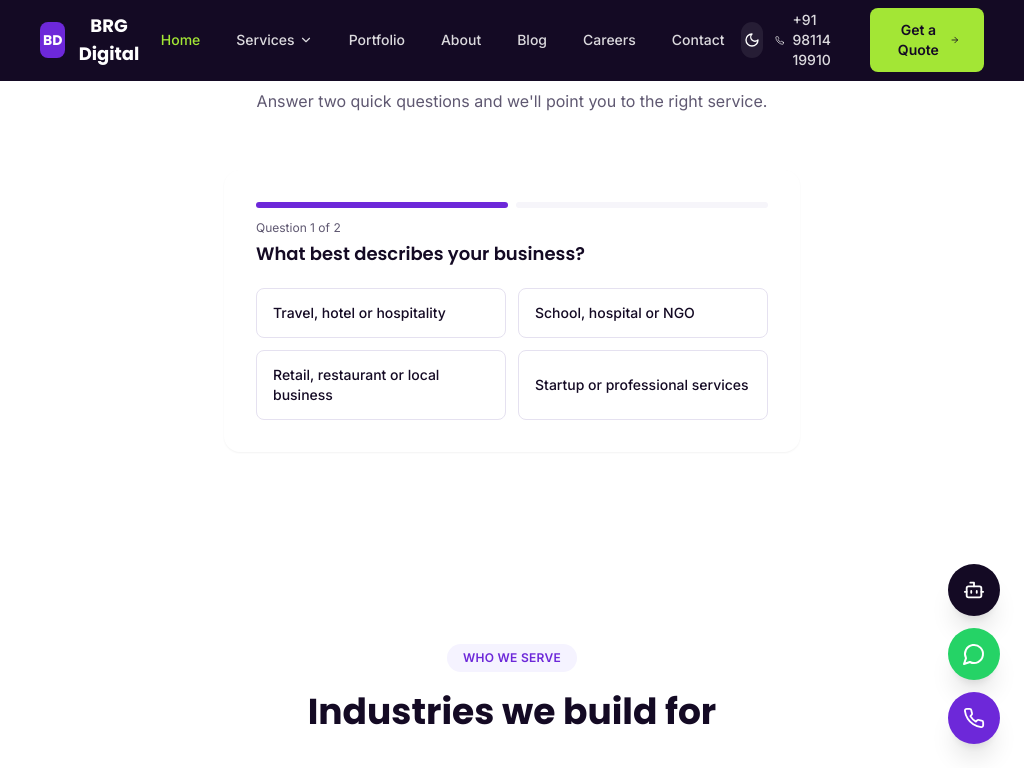
Test: Service quiz › walks through both questions and shows a recommendation
The image size is (1024, 768).
(page scrolled)
Step 1. Click the button "Retail, restaurant or local business" → [381, 384], box [256,350,506,420]
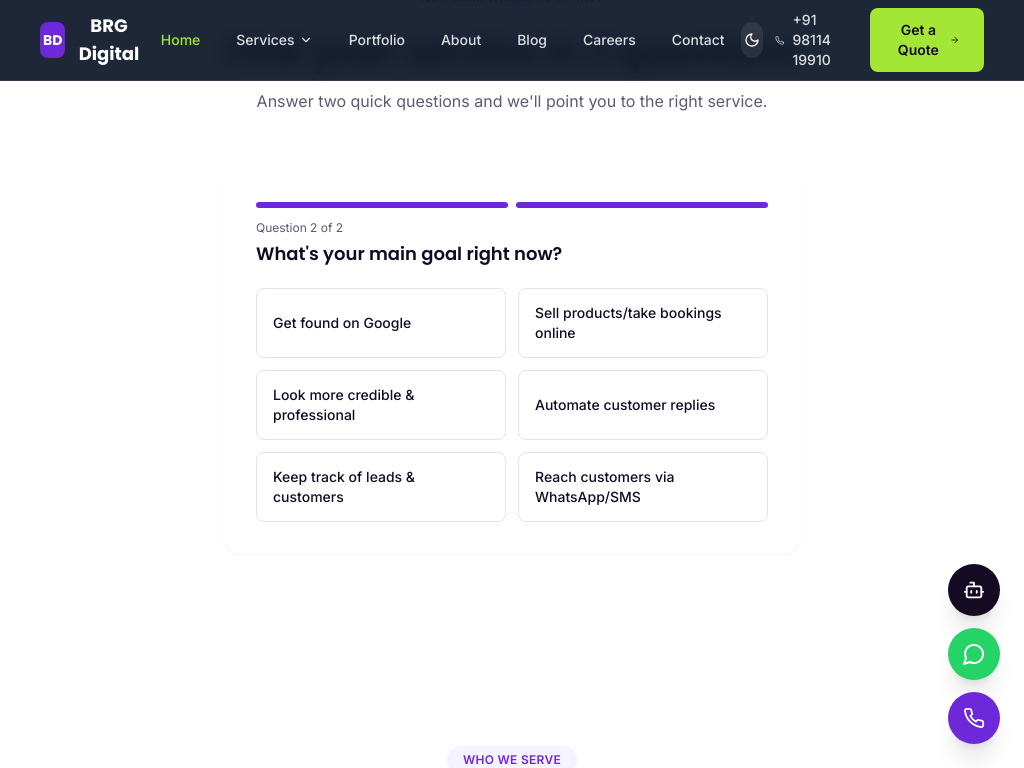
Step 2. Click the button "Sell products/take bookings online" → [643, 322], box [518,288,768,358]
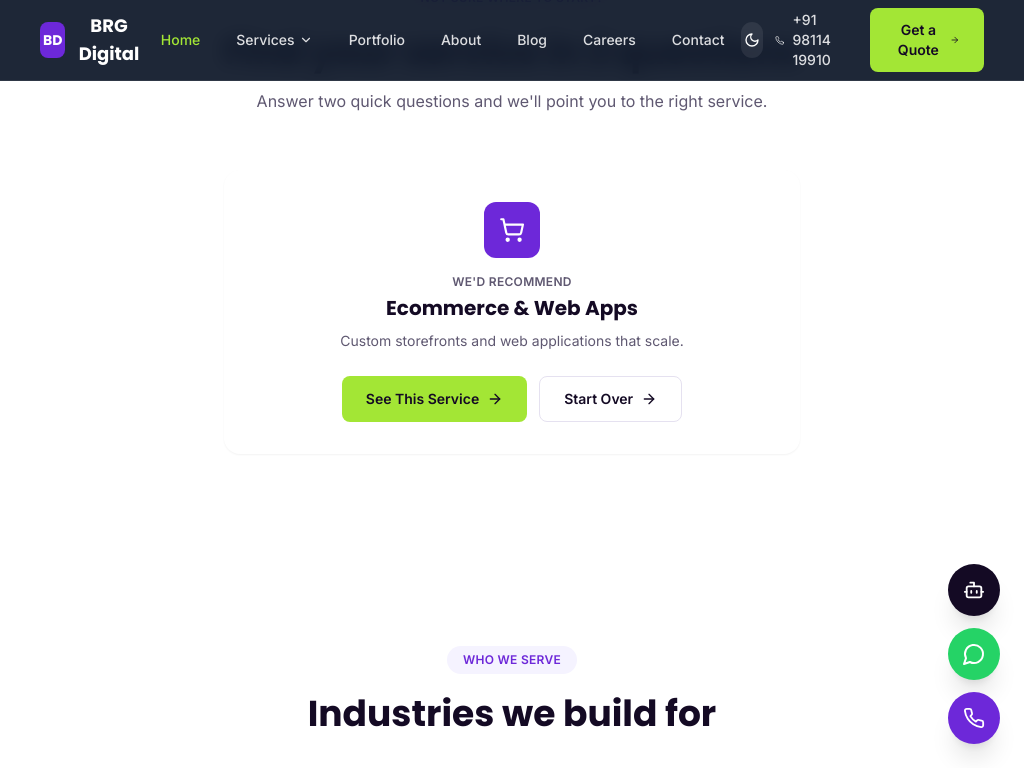
expect the text "We'd recommend" is shown: met, box [452,274,572,288]
